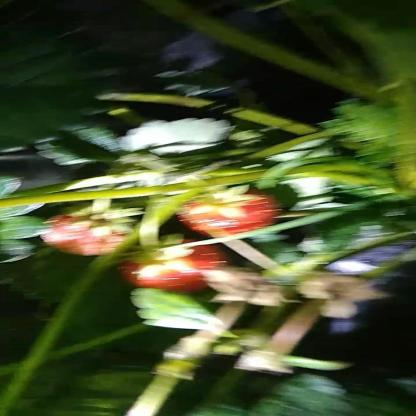ripe: (122, 241, 233, 292), (178, 191, 277, 232), (33, 216, 136, 253)
